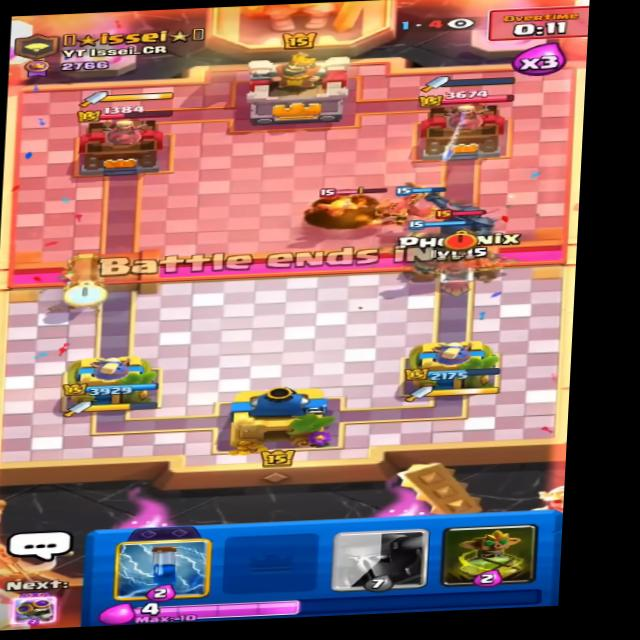Goblindemolisher: (304, 188, 383, 237)
Pekka: (417, 200, 507, 244)
